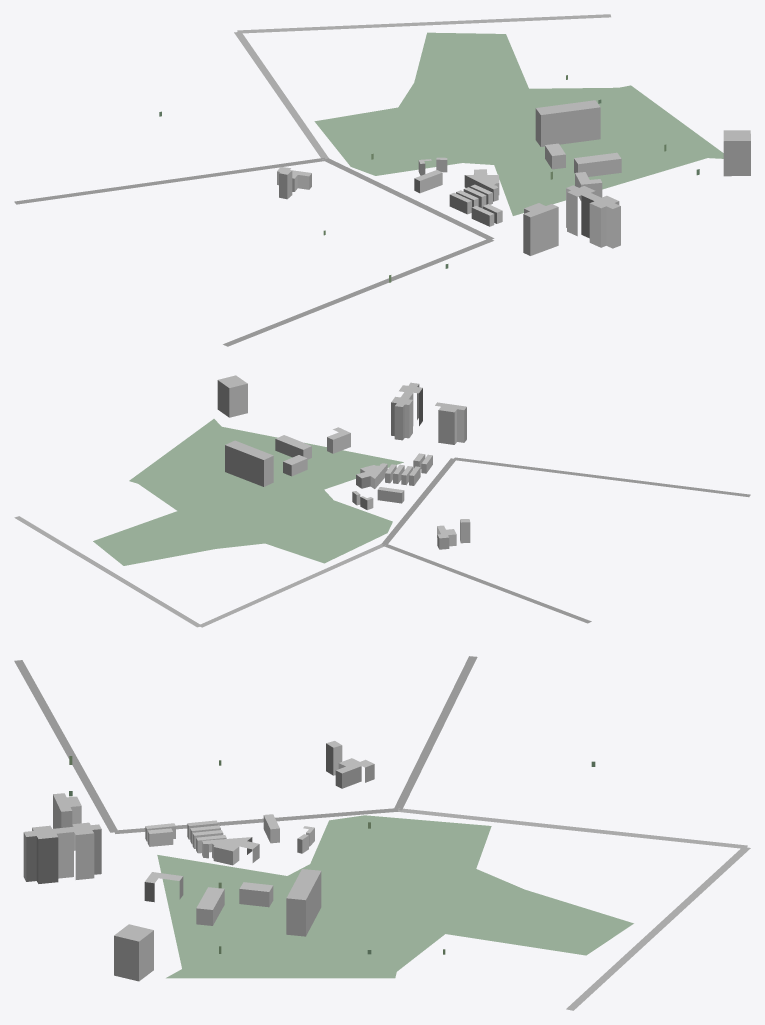
3 renders of one model, top to bottom at view 1: azimuth 30°, elevation 25°; view 2: azimuth 150°, elevation 25°; view 3: azimuth 270°, elevation 25°, orthographic. The views are drawn at different scales.
Bounding box in the file's own units: 676 × 41.94 × 592.
